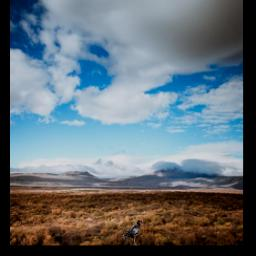Crow: (122, 218, 145, 246)
